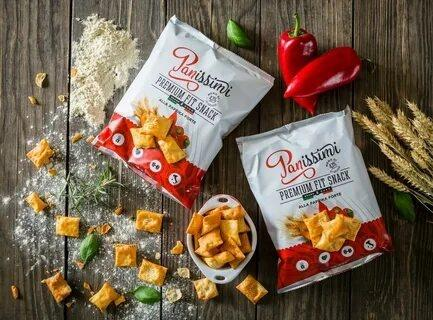snack: (90, 13, 277, 209), (235, 103, 393, 293)
